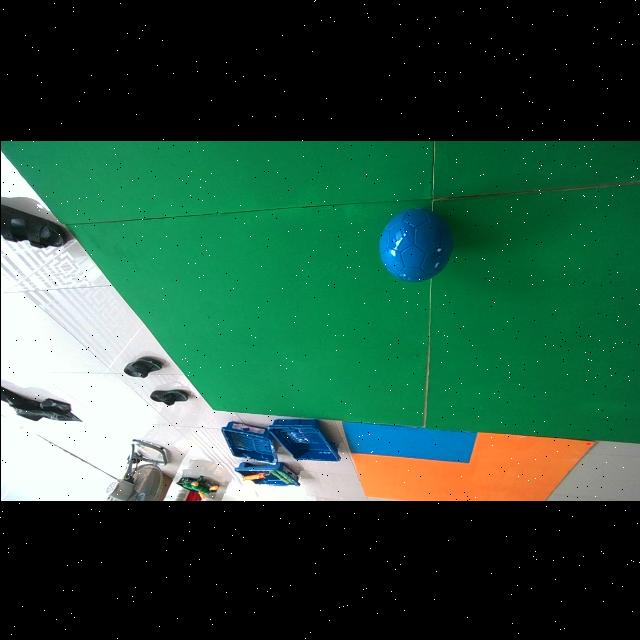B: (378, 207, 451, 281)
